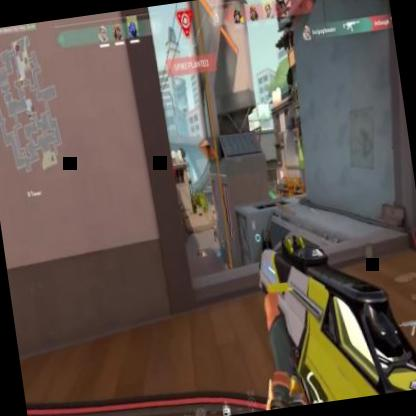enemy: (210, 222, 218, 242)
enemy_head: (212, 222, 215, 228)
